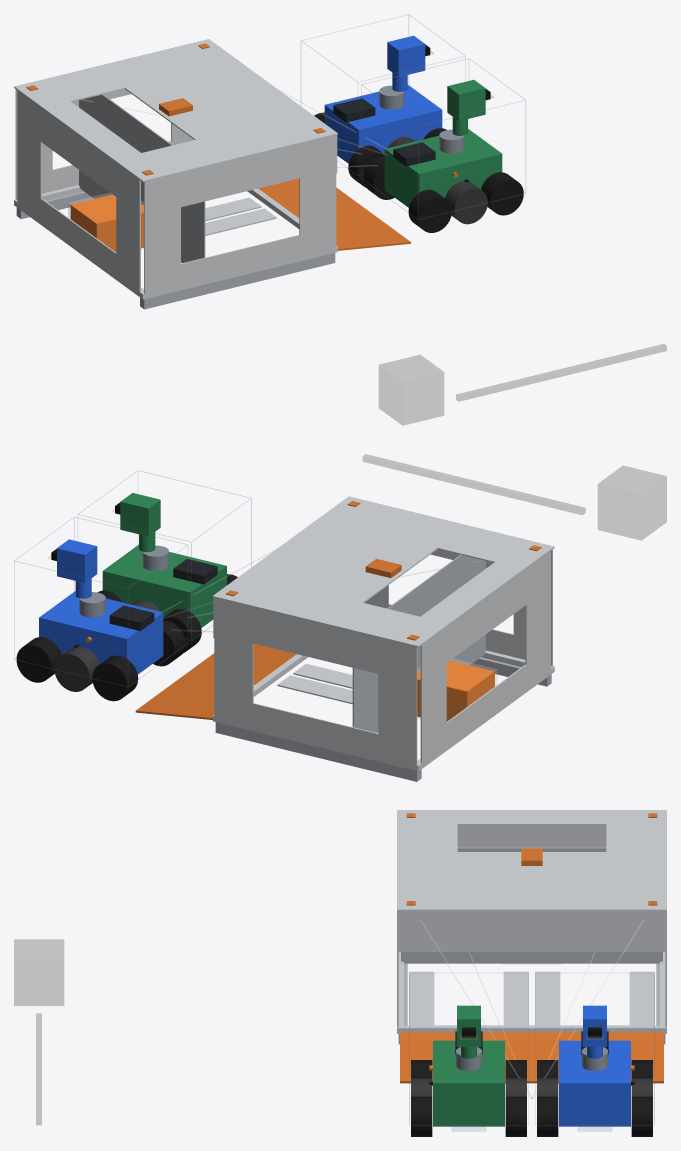
Rendered from ground.glb.
3 views of the same model, one above another, from view 1: azimuth 30°, elevation 25°; view 2: azimuth 150°, elevation 25°; view 3: azimuth 270°, elevation 25° (orthographic). The views are drawn at different scales.
Visible parts, largest first — view 1: transport_pod_open/pod_roof, transport_pod_open/pod_wall_right, transport_pod_open/pod_wall_aft, robot_2_approximate/chassis_approximate, robot_1_approximate/chassis_approximate, transport_pod_open/pod_tray, transport_pod_open/chute_bulkhead, scale_reference/viz_scale_100mm, robot_2_approximate/wheel_driven (×3), transport_pod_open/ramp_and_chocks, transport_pod_open/landing_skid_right, transport_pod_open/pod_wall_left (+10 smaller); view 2: transport_pod_open/pod_roof, transport_pod_open/pod_wall_left, transport_pod_open/pod_wall_aft, robot_1_approximate/chassis_approximate, robot_2_approximate/chassis_approximate, transport_pod_open/chute_bulkhead, scale_reference/viz_scale_100mm, transport_pod_open/pod_tray, robot_1_approximate/wheel_driven (×3), transport_pod_open/ramp_and_chocks, transport_pod_open/landing_skid_left, transport_pod_open/pod_wall_right (+14 smaller); view 3: transport_pod_open/pod_roof, transport_pod_open/front_header, transport_pod_open/pod_tray, robot_1_approximate/chassis_approximate, robot_2_approximate/chassis_approximate, transport_pod_open/ramp_and_chocks, transport_pod_open/chute_bulkhead, transport_pod_open/pod_wall_aft, scale_reference/viz_scale_100mm, robot_1_approximate/wheel_driven (×2), robot_2_approximate/wheel_driven (×2), robot_1_approximate/pan_tilt_head_approximate (+2 smaller).
Part boxes in pixels (bbox=[...]): transport_pod_open/pod_roof: bbox=[14, 39, 337, 181]; transport_pod_open/pod_wall_right: bbox=[144, 135, 336, 293]; transport_pod_open/pod_wall_aft: bbox=[17, 88, 140, 292]; robot_2_approximate/chassis_approximate: bbox=[384, 129, 502, 207]; robot_1_approximate/chassis_approximate: bbox=[324, 85, 442, 163]; transport_pod_open/pod_tray: bbox=[14, 185, 337, 299]; transport_pod_open/chute_bulkhead: bbox=[79, 94, 205, 263]; scale_reference/viz_scale_100mm: bbox=[379, 355, 443, 425]; robot_2_approximate/wheel_driven (×3): bbox=[363, 156, 523, 232]; transport_pod_open/ramp_and_chocks: bbox=[258, 178, 410, 250]; transport_pod_open/landing_skid_right: bbox=[140, 253, 335, 309]; transport_pod_open/pod_wall_left: bbox=[15, 41, 199, 199]; transport_pod_open/pod_roof: bbox=[212, 496, 554, 647]; transport_pod_open/pod_wall_left: bbox=[214, 596, 417, 770]; transport_pod_open/pod_wall_aft: bbox=[420, 549, 550, 768]; robot_1_approximate/chassis_approximate: bbox=[39, 591, 163, 674]; robot_2_approximate/chassis_approximate: bbox=[102, 544, 226, 627]; transport_pod_open/chute_bulkhead: bbox=[352, 555, 485, 732]; scale_reference/viz_scale_100mm: bbox=[598, 466, 666, 540]; transport_pod_open/pod_tray: bbox=[212, 650, 554, 771]; robot_1_approximate/wheel_driven (×3): bbox=[16, 620, 185, 701]; transport_pod_open/ramp_and_chocks: bbox=[135, 643, 296, 719]; transport_pod_open/landing_skid_left: bbox=[215, 722, 421, 781]; transport_pod_open/pod_wall_right: bbox=[350, 497, 552, 666]; transport_pod_open/pod_roof: bbox=[397, 810, 666, 910]; transport_pod_open/front_header: bbox=[398, 909, 665, 951]; transport_pod_open/pod_tray: bbox=[397, 952, 666, 1033]; robot_1_approximate/chassis_approximate: bbox=[559, 1040, 630, 1126]; robot_2_approximate/chassis_approximate: bbox=[433, 1040, 504, 1126]; transport_pod_open/ramp_and_chocks: bbox=[400, 1032, 663, 1083]; transport_pod_open/chute_bulkhead: bbox=[401, 847, 662, 963]; transport_pod_open/pod_wall_aft: bbox=[404, 810, 659, 847]; scale_reference/viz_scale_100mm: bbox=[14, 939, 63, 1005]; robot_1_approximate/wheel_driven (×2): bbox=[537, 1096, 652, 1136]; robot_2_approximate/wheel_driven (×2): bbox=[411, 1096, 526, 1136]; robot_1_approximate/pan_tilt_head_approximate: bbox=[583, 1005, 606, 1046].
Size of the model in its own units: 0.9344 by 0.3095 by 1.3.
